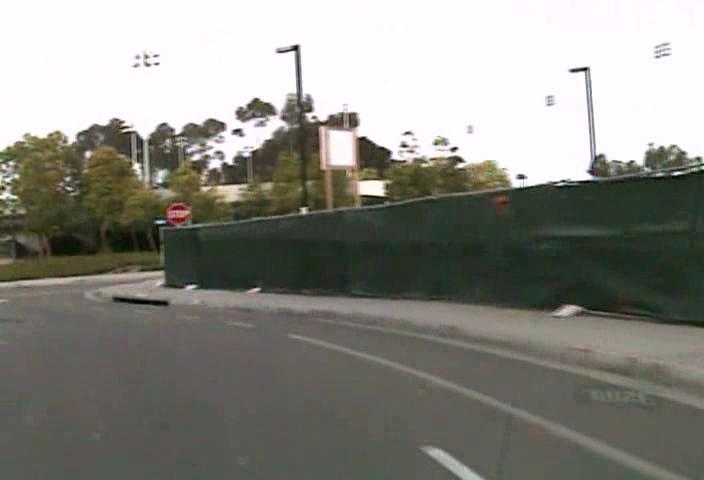stop: (166, 201, 189, 225)
